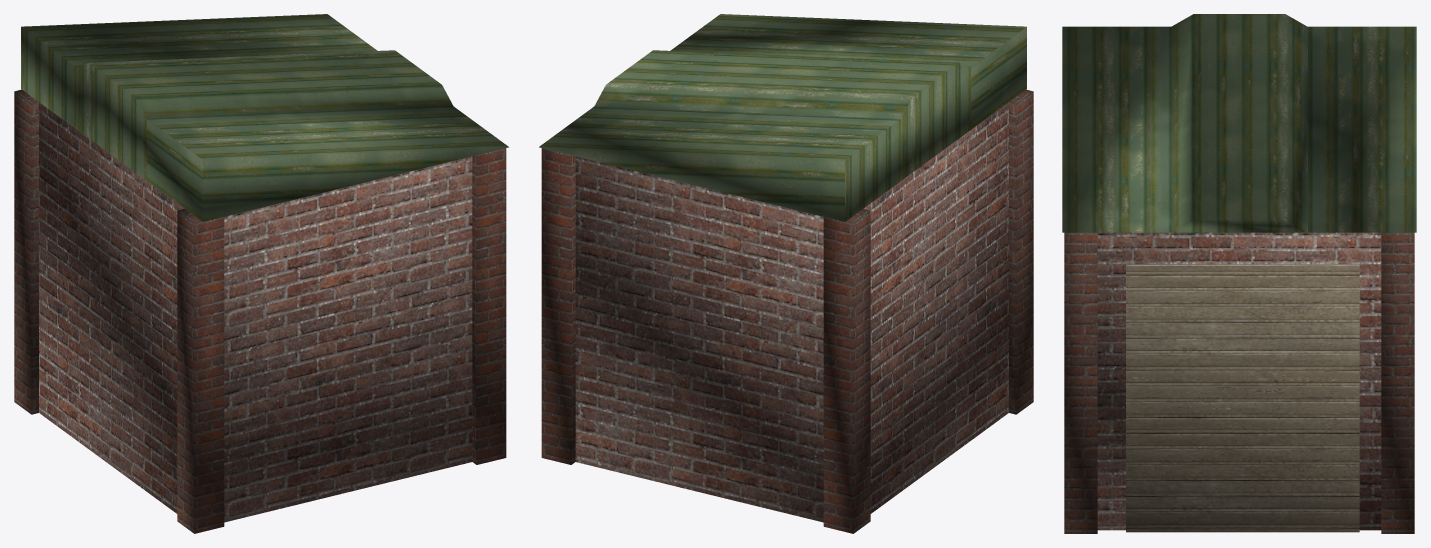
The model's file is buildingtrain.fbx.
The picture shows the model from 3 angles, left to right: view 1: azimuth 30°, elevation 25°; view 2: azimuth 150°, elevation 25°; view 3: azimuth 270°, elevation 25°; orthographic projection. The views are drawn at different scales.
Parts seen in each view (by area): view 1: Cube, Plane, Cube.001; view 2: Cube, Plane, Cube.001; view 3: Plane, Cube.003, Cube, Cube.001.
Boxes of the visible parts, <box> form: Cube: <box>39,102,472,522</box>; Plane: <box>21,14,508,221</box>; Cube.001: <box>14,89,506,533</box>; Cube: <box>575,102,1008,522</box>; Plane: <box>539,14,1026,221</box>; Cube.001: <box>541,89,1033,533</box>; Plane: <box>1062,14,1416,232</box>; Cube.003: <box>1126,264,1359,532</box>; Cube: <box>1097,232,1381,530</box>; Cube.001: <box>1064,232,1414,533</box>.
Size of the model in its own units: 1057 by 1242 by 1062.
